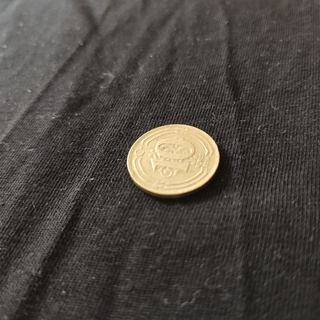10KURUS: (125, 122, 222, 200)
